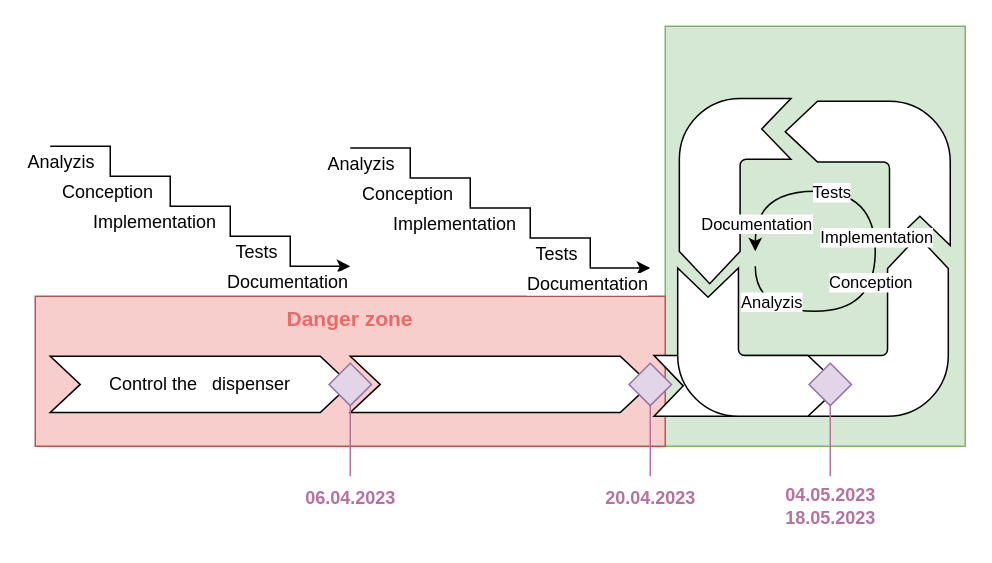
This 992x563 diagram has some shape labels left out. Each missing label, with the box of its shape:
Read the informations: (349, 355, 650, 412)
Weekly sprint Improvement: (664, 25, 965, 446)
